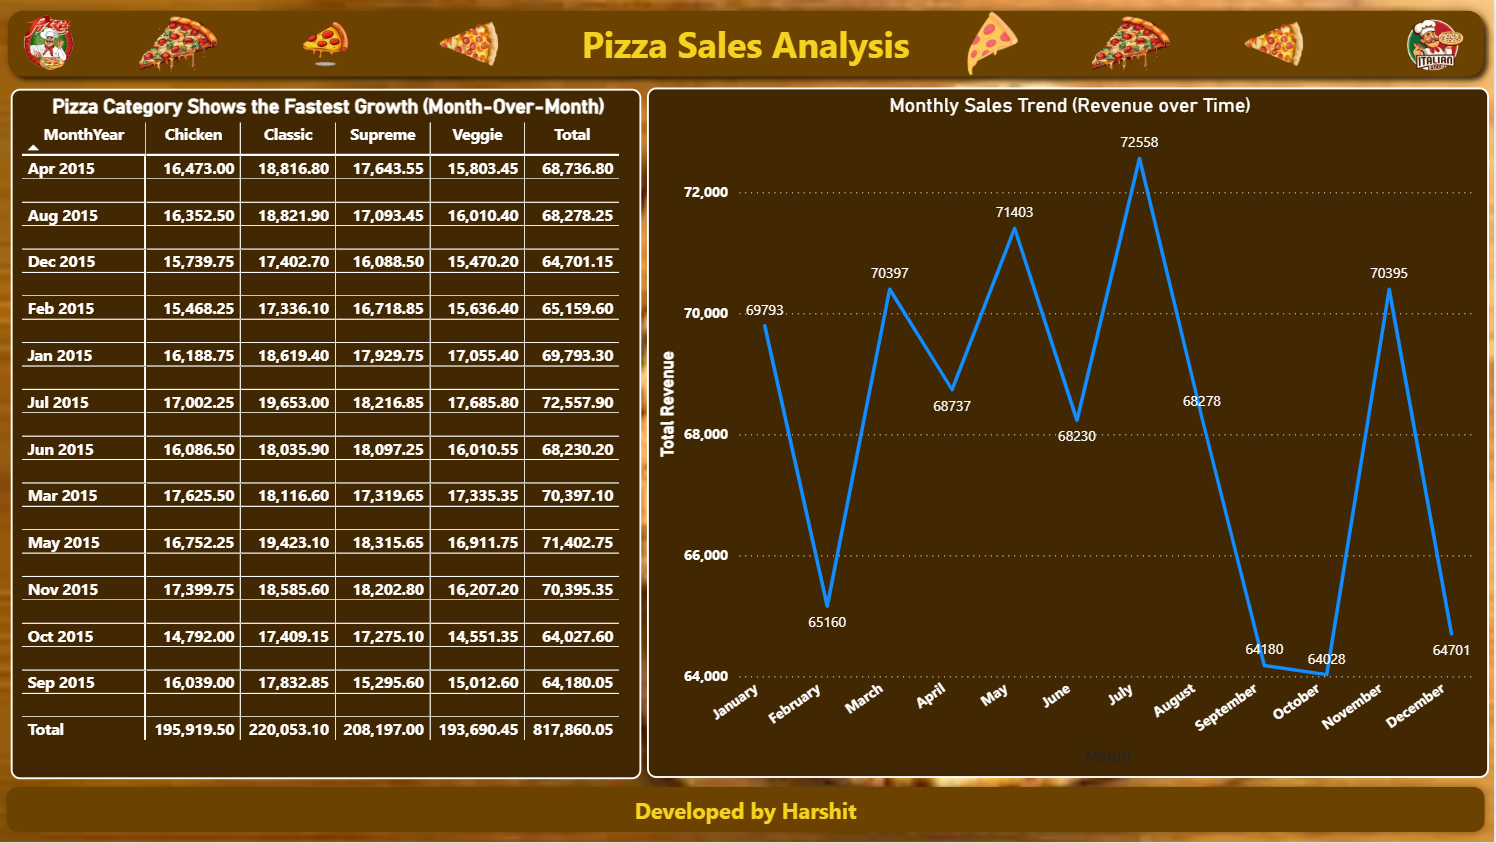

Layout of this report page (visuals, bound fields, positions):
{"tool":"powerbi","page":{"name":"page 3","canvas":[1280,720],"ordinal":2},"visuals":[{"type":"shape","box":[0,0,1280.2,74.4],"z":0},{"type":"lineChart","title":"Monthly Sales Trend (Revenue over Time)","fields":{"Y":["pizzas.Total Revenue"],"Category":["DateTable.Date.Variation.Date Hierarchy.Month"]},"box":[555.8,74.4,719.8,590.7],"z":1000},{"type":"pivotTable","title":"Pizza Category Shows the Fastest Growth (Month-Over-Month)","fields":{"Rows":["DateTable.MonthYear"],"Values":["pizzas.Total Revenue"],"Columns":["pizza_types.category"]},"box":[11.6,75.6,539.5,590.7],"z":2000},{"type":"shape","box":[0,665.1,1280.2,54.7],"z":3000},{"type":"image","box":[16.3,8.1,55.8,55.8],"z":4000},{"type":"image","box":[116.3,0,77.9,74.4],"z":5000},{"type":"image","box":[231.4,0,100,74.4],"z":6000},{"type":"image","box":[359.3,0,84.9,74.4],"z":7000},{"type":"image","box":[814,0,76.7,74.4],"z":8000},{"type":"image","box":[931.4,0,77.9,74.4],"z":9000},{"type":"image","box":[1195.4,2.3,69.8,73.3],"z":10000},{"type":"image","box":[1047.7,0,84.9,74.4],"z":11000}]}

Visuals, with their boxes in screenshot pixels (x1, y1, x2, y2), scaled from the page's 1280x720 canvas onto the 1496x843 screenshot:
shape: {"left": 0, "top": 0, "right": 1495, "bottom": 87}
"Monthly Sales Trend (Revenue over Time)" lineChart: {"left": 650, "top": 87, "right": 1491, "bottom": 779}
"Pizza Category Shows the Fastest Growth (Month-Over-Month)" pivotTable: {"left": 14, "top": 89, "right": 644, "bottom": 780}
shape: {"left": 0, "top": 779, "right": 1495, "bottom": 842}
image: {"left": 19, "top": 9, "right": 84, "bottom": 75}
image: {"left": 136, "top": 0, "right": 227, "bottom": 87}
image: {"left": 270, "top": 0, "right": 387, "bottom": 87}
image: {"left": 420, "top": 0, "right": 519, "bottom": 87}
image: {"left": 951, "top": 0, "right": 1041, "bottom": 87}
image: {"left": 1089, "top": 0, "right": 1180, "bottom": 87}
image: {"left": 1397, "top": 3, "right": 1479, "bottom": 89}
image: {"left": 1224, "top": 0, "right": 1324, "bottom": 87}
